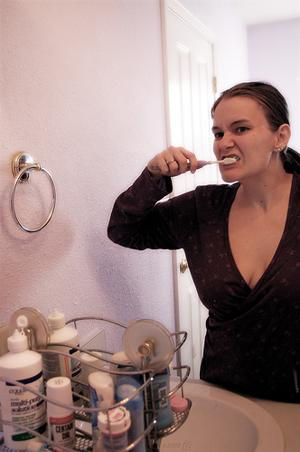person: (108, 80, 300, 408)
